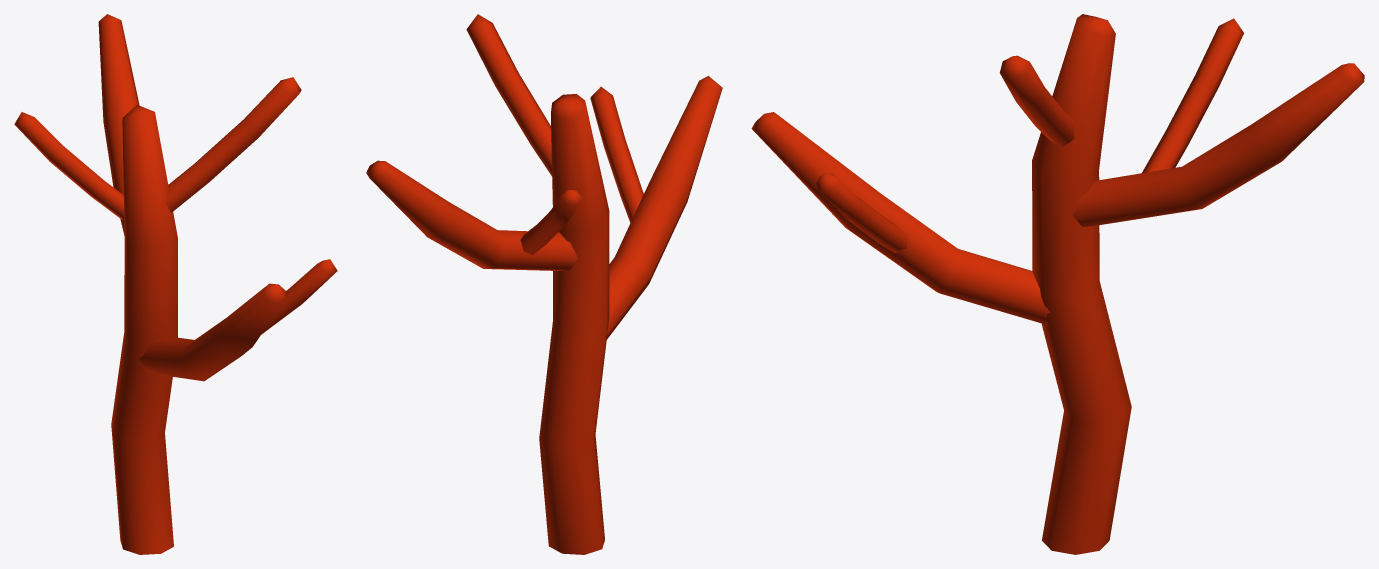
Rendered from krishnachura_tree.glb.
3 renders of one model, left to right at view 1: azimuth 30°, elevation 25°; view 2: azimuth 150°, elevation 25°; view 3: azimuth 270°, elevation 25°, orthographic. The views are drawn at different scales.
Visible parts, largest first — view 1: stklib_autumnTree_a_main; view 2: stklib_autumnTree_a_main; view 3: stklib_autumnTree_a_main.
Part boxes in pixels (<box>): stklib_autumnTree_a_main: <box>14,14,337,554</box>; stklib_autumnTree_a_main: <box>366,14,722,554</box>; stklib_autumnTree_a_main: <box>751,14,1364,554</box>.
Bounding box in the file's own units: 7.04 × 15.7 × 15.69.
